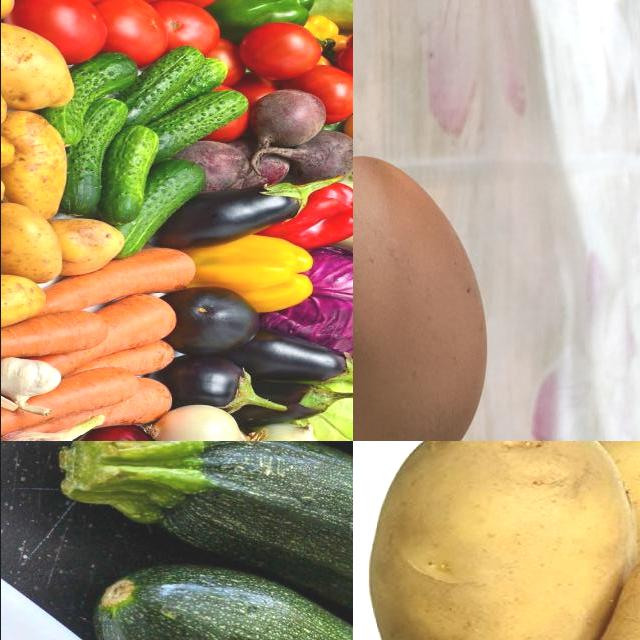beet: (244, 89, 329, 147), (287, 132, 353, 179), (190, 140, 252, 188)
bell_pepper: (192, 240, 319, 307), (272, 184, 353, 251)
cabbage: (268, 252, 353, 351), (301, 368, 353, 442)
carrot: (1, 369, 136, 442), (50, 251, 195, 311), (87, 298, 171, 359), (79, 379, 179, 423), (1, 316, 112, 352), (84, 343, 177, 383)
cucumber: (118, 161, 198, 254), (58, 58, 131, 142), (104, 126, 166, 220), (67, 96, 117, 212), (129, 50, 201, 123), (154, 88, 240, 148)
egg: (353, 149, 492, 442)
eggplant: (169, 292, 259, 356), (164, 363, 259, 414), (251, 339, 353, 384), (242, 387, 348, 423)
garlic: (1, 358, 65, 408), (3, 423, 90, 442)
onion: (169, 184, 315, 248), (154, 408, 237, 442), (252, 423, 320, 442)
potato: (368, 442, 640, 640), (1, 25, 78, 111), (5, 114, 67, 212), (46, 224, 126, 275), (1, 276, 42, 333), (1, 127, 22, 172)
tomato: (11, 1, 104, 64), (92, 1, 170, 70), (242, 26, 327, 78), (155, 2, 227, 62), (294, 70, 353, 125)
